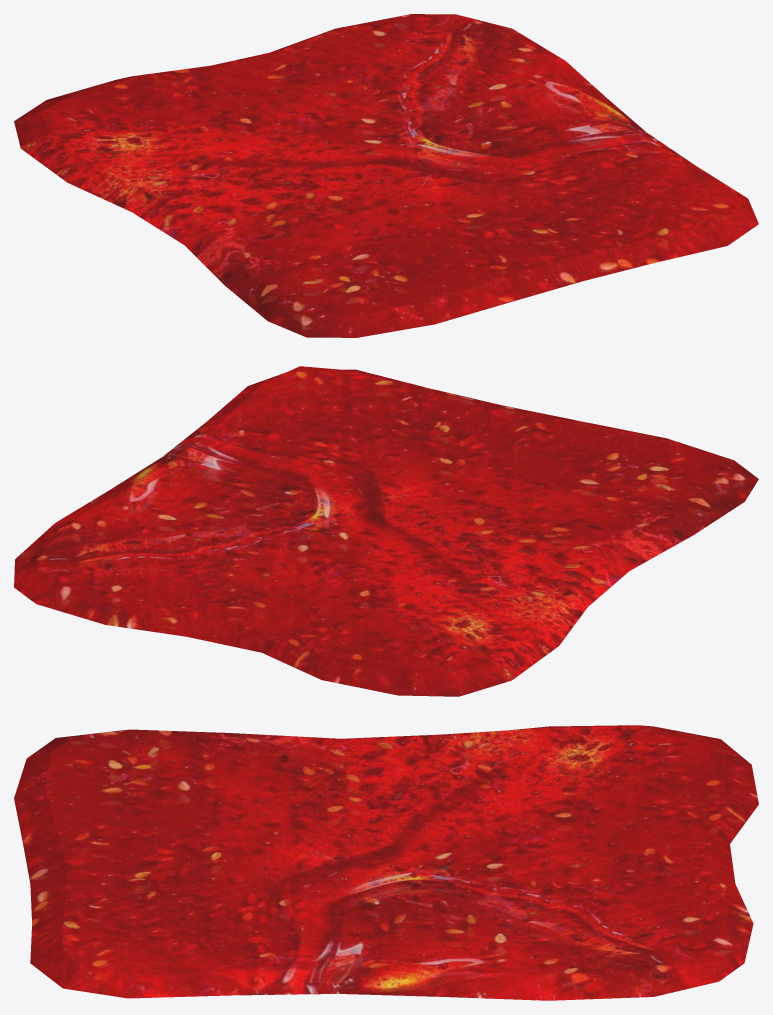
Rendered from strawebrry jam.fbx.
3 views of the same model, one above another, from view 1: azimuth 30°, elevation 25°; view 2: azimuth 150°, elevation 25°; view 3: azimuth 270°, elevation 25° (orthographic). The views are drawn at different scales.
Parts seen in each view (by area): view 1: strawberry_jam; view 2: strawberry_jam; view 3: strawberry_jam.
Part boxes in pixels (x1=…): strawberry_jam: x1=14, y1=14, x2=758, y2=337; strawberry_jam: x1=14, y1=366, x2=758, y2=696; strawberry_jam: x1=14, y1=725, x2=758, y2=1000.
Bounding box in the file's own units: 0.7237 × 0.0162 × 0.8306.
Materials: 1 (1 with a texture image).
